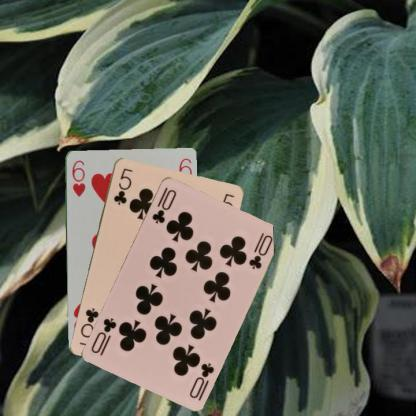10c: (186, 360, 216, 402), (149, 186, 177, 225)
5c: (111, 165, 134, 206)
6h: (69, 157, 87, 198)
